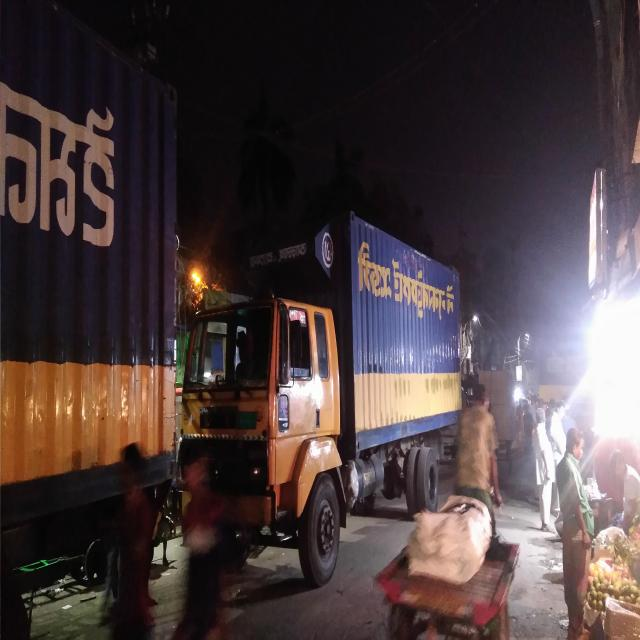truck: (176, 192, 479, 587), (0, 0, 177, 630)
